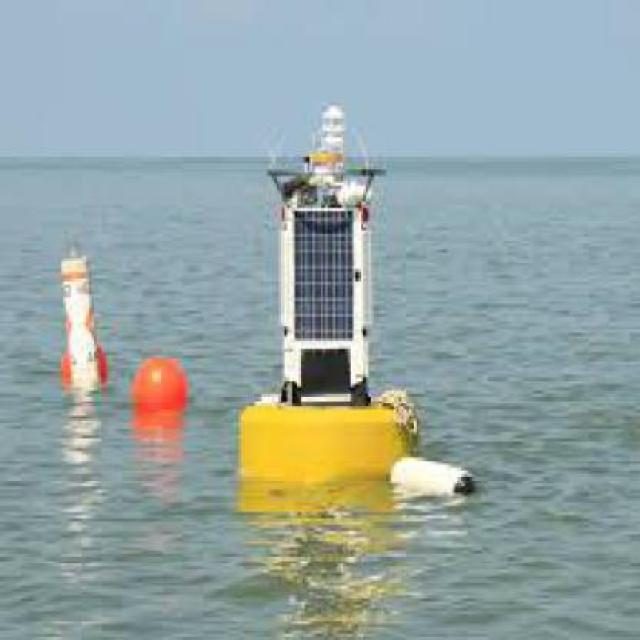buoy: (222, 94, 440, 491)
